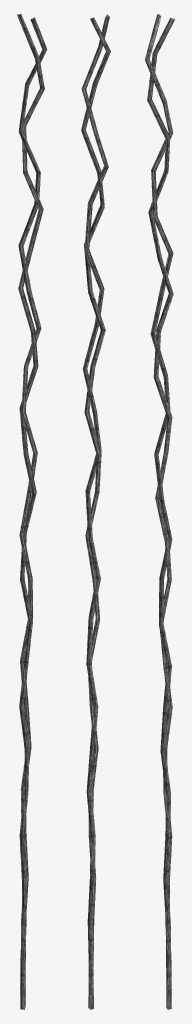
File: INST_MIRK_VINE_CLIMBABLE.fbx
3 renders of one model, left to right at view 1: azimuth 90°, elevation 25°; view 2: azimuth 150°, elevation 25°; view 3: azimuth 270°, elevation 25°, orthographic.
Parts seen in each view (by area): view 1: INST_MIRK_VINE_CLIMBABLE; view 2: INST_MIRK_VINE_CLIMBABLE; view 3: INST_MIRK_VINE_CLIMBABLE.
Boxes of the visible parts, <box> form: INST_MIRK_VINE_CLIMBABLE: <box>17,14,47,1009</box>; INST_MIRK_VINE_CLIMBABLE: <box>81,14,110,1009</box>; INST_MIRK_VINE_CLIMBABLE: <box>145,14,174,1009</box>.
Size of the model in its own units: 3878 by 140857 by 3917.
Materials: 1 (1 with a texture image).
